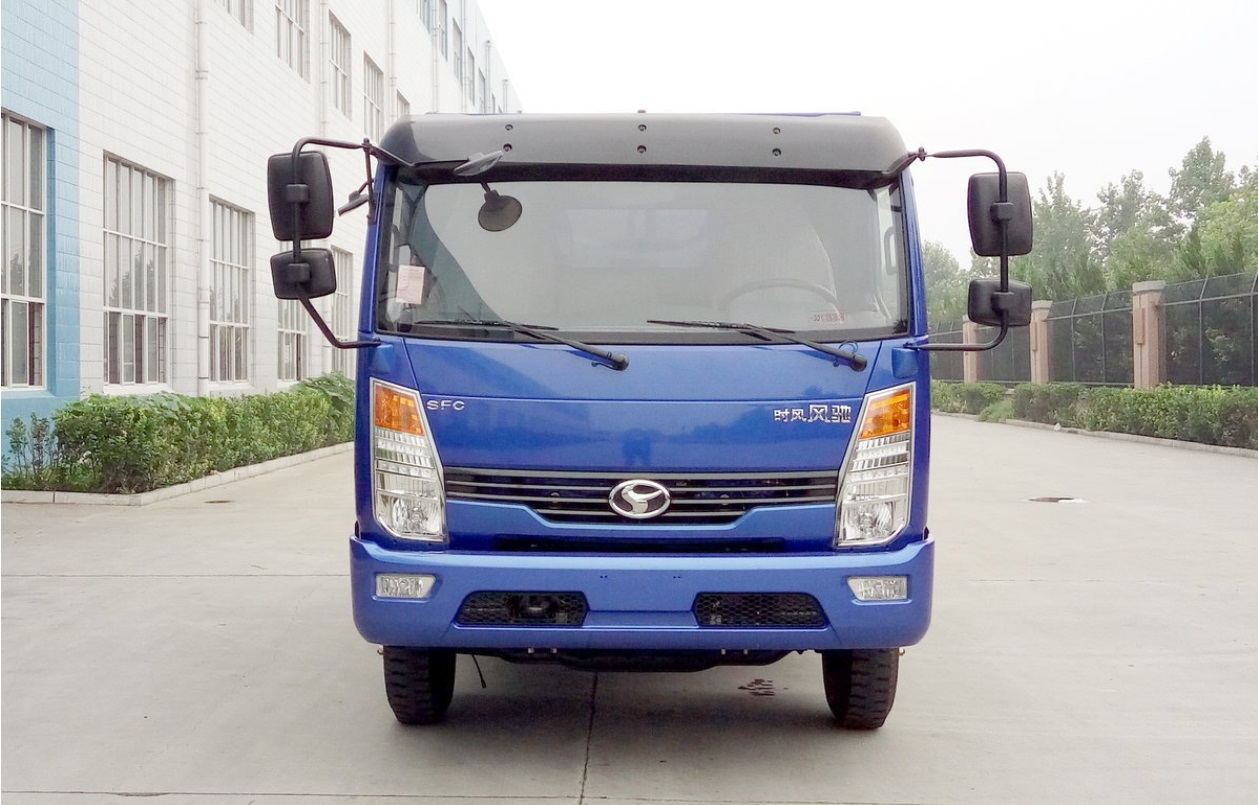truck: (264, 105, 1041, 745)
